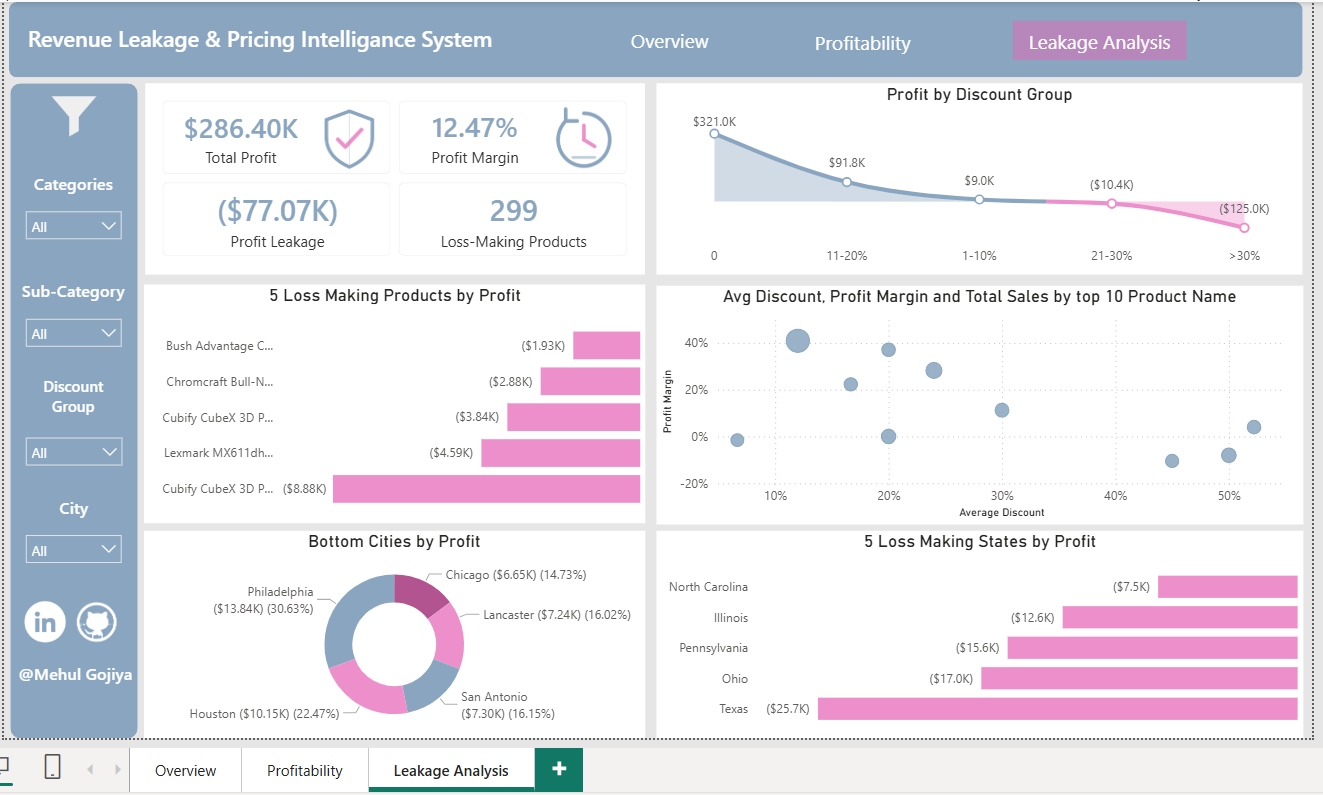

Layout of this report page (visuals, bound fields, positions):
{"tool":"powerbi","page":{"name":"Leakage Analysis","canvas":[1280,720],"ordinal":2},"visuals":[{"type":"cardVisual","fields":{"Data":["Cleaned_Superstore.Total Profit","Cleaned_Superstore.Profit Margin","Cleaned_Superstore.Profit Leakage","Cleaned_Superstore.Loss-Making Products"]},"box":[138.2,79.5,489.1,187.1],"z":0},{"type":"clusteredBarChart","title":"5 Loss Making Products by Profit","fields":{"Y":["Cleaned_Superstore.Total Profit"],"Category":["Cleaned_Superstore.Product Name"]},"box":[136.9,276.9,490.6,233.8],"z":1000},{"type":"areaChart","title":"Profit by Discount Group","fields":{"Y":["Cleaned_Superstore.Total Profit"],"Category":["Cleaned_Superstore.Discount_Group"]},"box":[638.3,79.5,632.2,187.1],"z":2000},{"type":"clusteredBarChart","title":"5 Loss Making States by Profit","fields":{"Category":["Cleaned_Superstore.State"],"Y":["Cleaned_Superstore.Total Profit"]},"box":[638.1,517.3,632.6,203.1],"z":3000},{"type":"donutChart","title":"Bottom Cities by Profit","fields":{"Category":["Cleaned_Superstore.City"],"Y":["Cleaned_Superstore.Total Profit"]},"box":[137.1,517.1,490,203.3],"z":4000},{"type":"shape","box":[5,0,1265.6,73.8],"z":5000},{"type":"shape","box":[6.2,79.5,124.8,641],"z":6000},{"type":"textbox","box":[18.3,15.9,505,61.1],"z":7000},{"type":"actionButton","box":[596.7,18.3,108.8,37.9],"z":8000},{"type":"actionButton","box":[782.6,20.8,114.9,37.9],"z":12000},{"type":"actionButton","box":[986.6,17.8,170.2,38.4],"z":13000},{"type":"image","box":[46.5,79.5,44,64.8],"z":14000},{"type":"slicer","fields":{"Values":["Cleaned_Superstore.Category"]},"box":[11.6,194.7,113.7,52.6],"z":15000},{"type":"textbox","box":[11.6,161.6,113.7,33.2],"z":16000},{"type":"slicer","fields":{"Values":["Cleaned_Superstore.Sub-Category"]},"box":[11.1,299.5,113.7,52.1],"z":17000},{"type":"slicer","fields":{"Values":["Cleaned_Superstore.Discount_Group"]},"box":[11.1,415.8,114.7,54.2],"z":18000},{"type":"slicer","fields":{"Values":["Cleaned_Superstore.City"]},"box":[11.1,511.1,113.7,52.6],"z":19000},{"type":"textbox","box":[11.6,266.3,113.7,33.2],"z":20000},{"type":"textbox","box":[11.6,361.1,113.7,54.7],"z":21000},{"type":"textbox","box":[14.2,478.4,107.4,32.6],"z":22000},{"type":"image","box":[56.4,567.6,68.8,78],"z":23000},{"type":"image","box":[12,576.4,56,61.2],"z":24000},{"type":"textbox","box":[0,640.8,139.6,32.8],"z":25000},{"type":"scatterChart","title":"Avg Discount, Profit Margin and Total Sales by top 10 Product Name","fields":{"X":["Cleaned_Superstore.Average Discount"],"Y":["Cleaned_Superstore.Profit Margin"],"Size":["Cleaned_Superstore.Total Sales"],"Category":["Cleaned_Superstore.Product Name"]},"box":[638.1,277.2,632.6,233.3],"z":27000}]}

Visuals, with their boxes on the page's 1280x720 design canvas (x1, y1, x2, y2). These are canvas units, not pixel positions in the 1323x795 screenshot, which may show the page scaled, cropped or inside an application window:
cardVisual - Cleaned_Superstore.Total Profit x Cleaned_Superstore.Profit Margin: 138/80/627/267
"5 Loss Making Products by Profit" clusteredBarChart: 137/277/628/511
"Profit by Discount Group" areaChart: 638/80/1270/267
"5 Loss Making States by Profit" clusteredBarChart: 638/517/1271/720
"Bottom Cities by Profit" donutChart: 137/517/627/720
shape: 5/0/1271/74
shape: 6/80/131/720
textbox: 18/16/523/77
actionButton: 597/18/706/56
actionButton: 783/21/898/59
actionButton: 987/18/1157/56
image: 46/80/90/144
slicer - Cleaned_Superstore.Category: 12/195/125/247
textbox: 12/162/125/195
slicer - Cleaned_Superstore.Sub-Category: 11/300/125/352
slicer - Cleaned_Superstore.Discount_Group: 11/416/126/470
slicer - Cleaned_Superstore.City: 11/511/125/564
textbox: 12/266/125/300
textbox: 12/361/125/416
textbox: 14/478/122/511
image: 56/568/125/646
image: 12/576/68/638
textbox: 0/641/140/674
"Avg Discount, Profit Margin and Total Sales by top 10 Product Name" scatterChart: 638/277/1271/510
